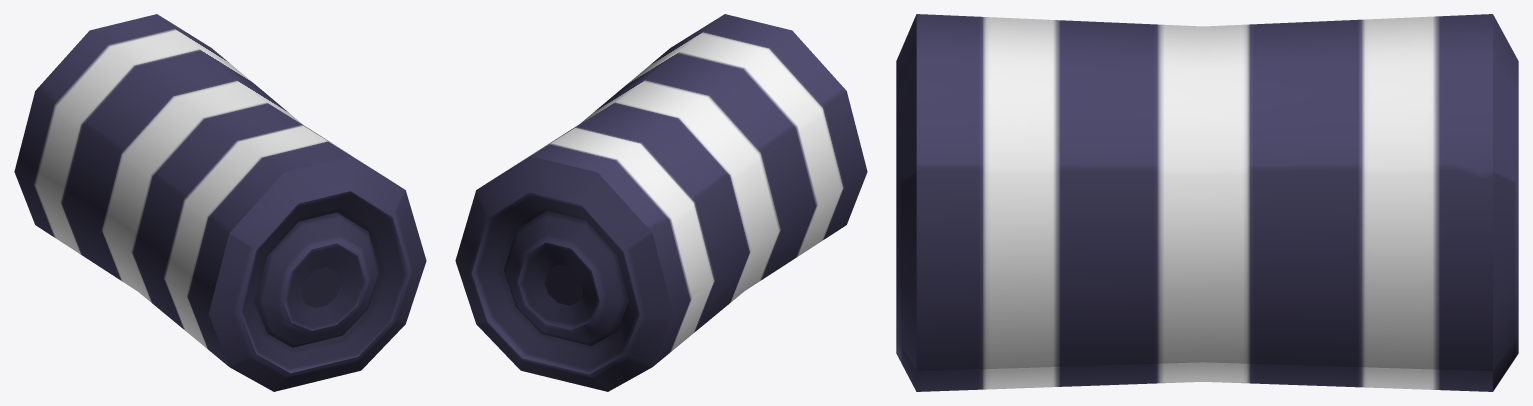
File: housepack_towel_roll_1.FBX
3 views of the same model, side by side, from view 1: azimuth 30°, elevation 25°; view 2: azimuth 150°, elevation 25°; view 3: azimuth 270°, elevation 25° (orthographic). The views are drawn at different scales.
Parts seen in each view (by area): view 1: housepack_towel_roll_1; view 2: housepack_towel_roll_1; view 3: housepack_towel_roll_1.
Part boxes in pixels (x1,y1,x2,y2): housepack_towel_roll_1: (14,14,426,391); housepack_towel_roll_1: (455,14,867,391); housepack_towel_roll_1: (896,14,1518,391).
Bounding box in the file's own units: 16.58 × 15.77 × 27.62.
